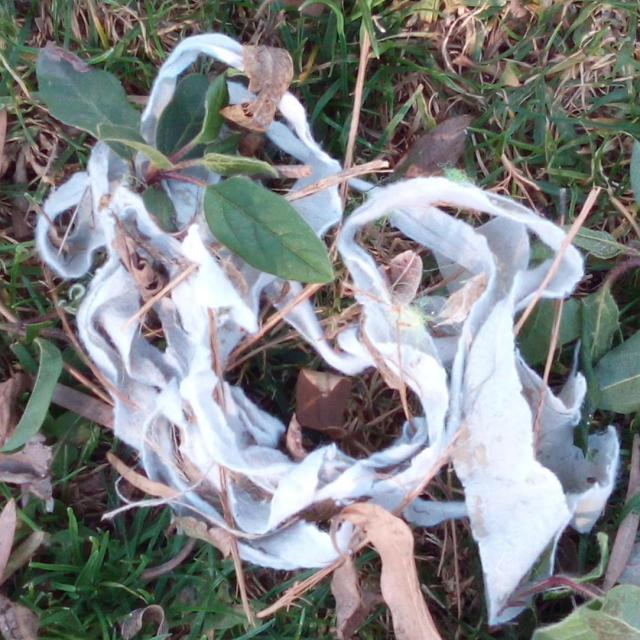litter: (41, 30, 620, 625)
